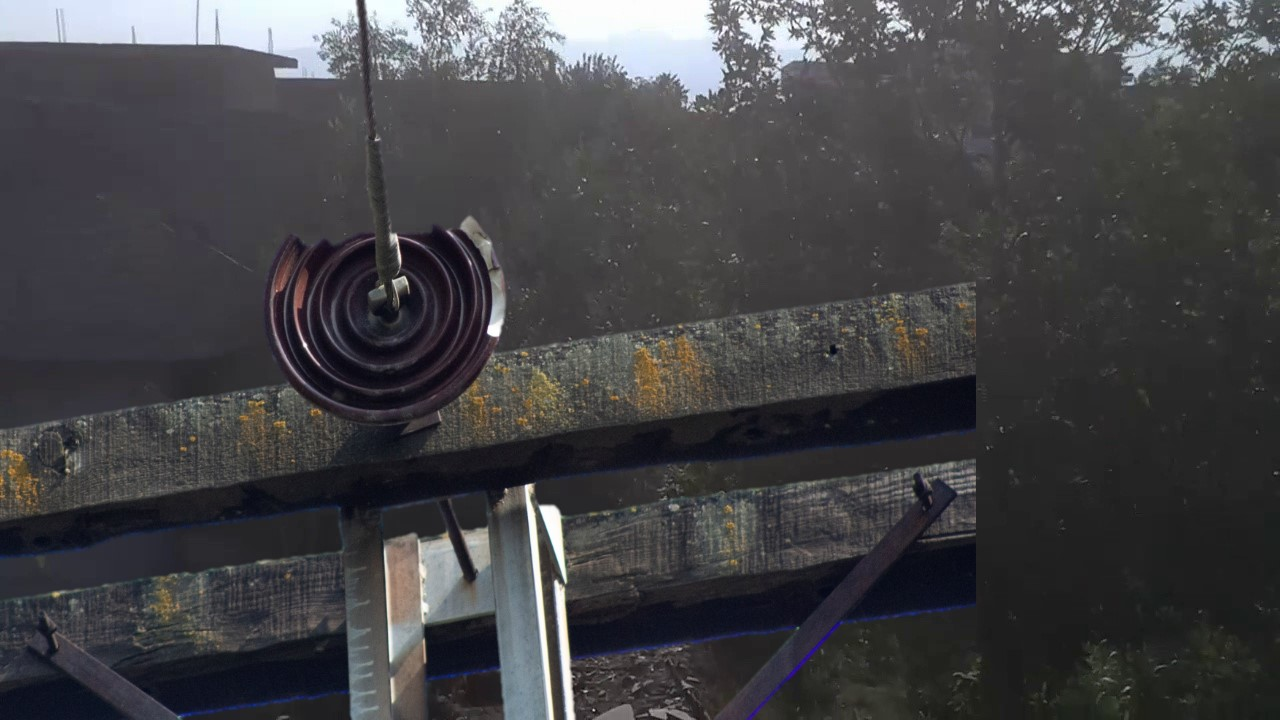defect_disc: (259, 208, 516, 430)
